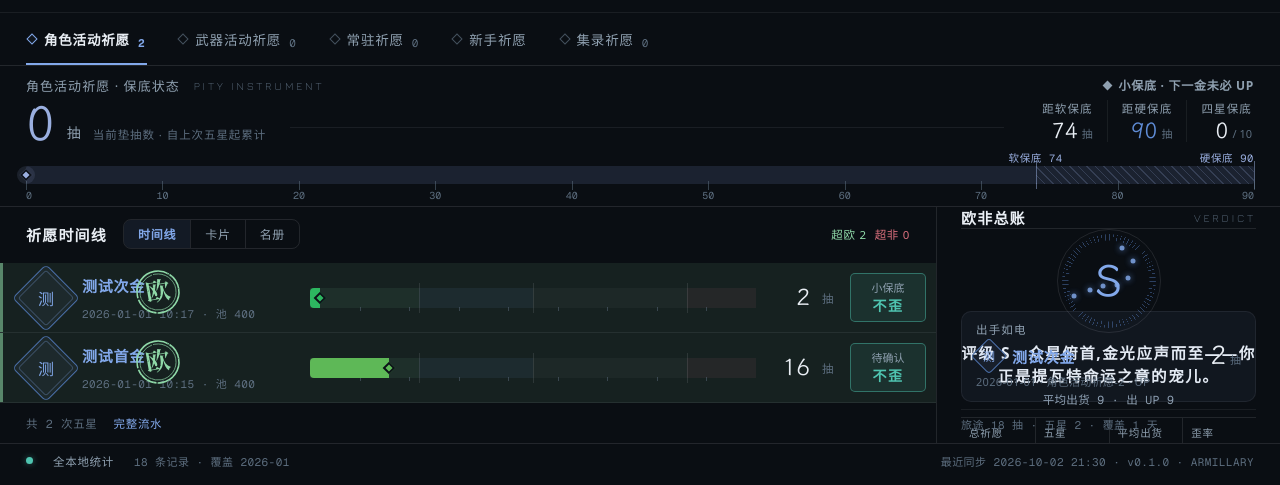
Test case: BoardView · 页签/保底仪/时间线/评语/高光/状态栏 › 首个五星按档案数据如实计数与分档(2026-10-18 裁决)
Expected: the text with class "wish-q" reads "16", [782, 354, 810, 381]
Expected: the text with class "wish-pity" reads "待确认", [872, 350, 904, 364]
Click the button "名册".
click(272, 234)  # box [245, 220, 299, 248]
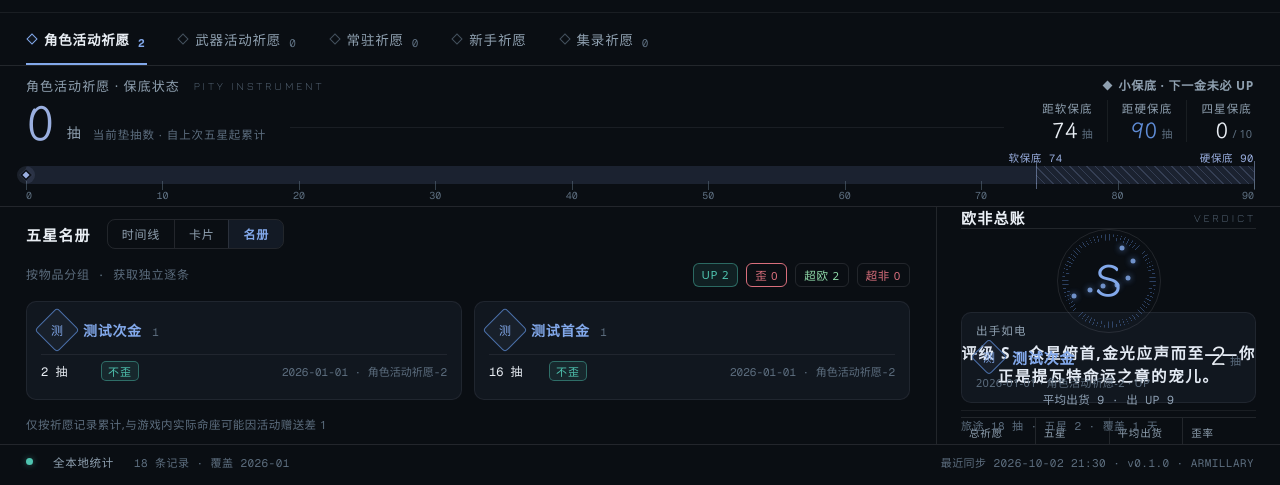
Result: the elements with class "ci-q" read "2 抽", "16 抽", in this order at [41, 364, 67, 380]; [489, 364, 523, 380]
